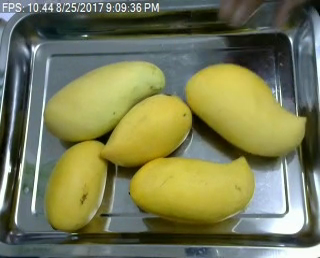Mango: (184, 62, 308, 159), (40, 58, 168, 143), (127, 156, 255, 224), (98, 93, 192, 167), (39, 137, 110, 233)
